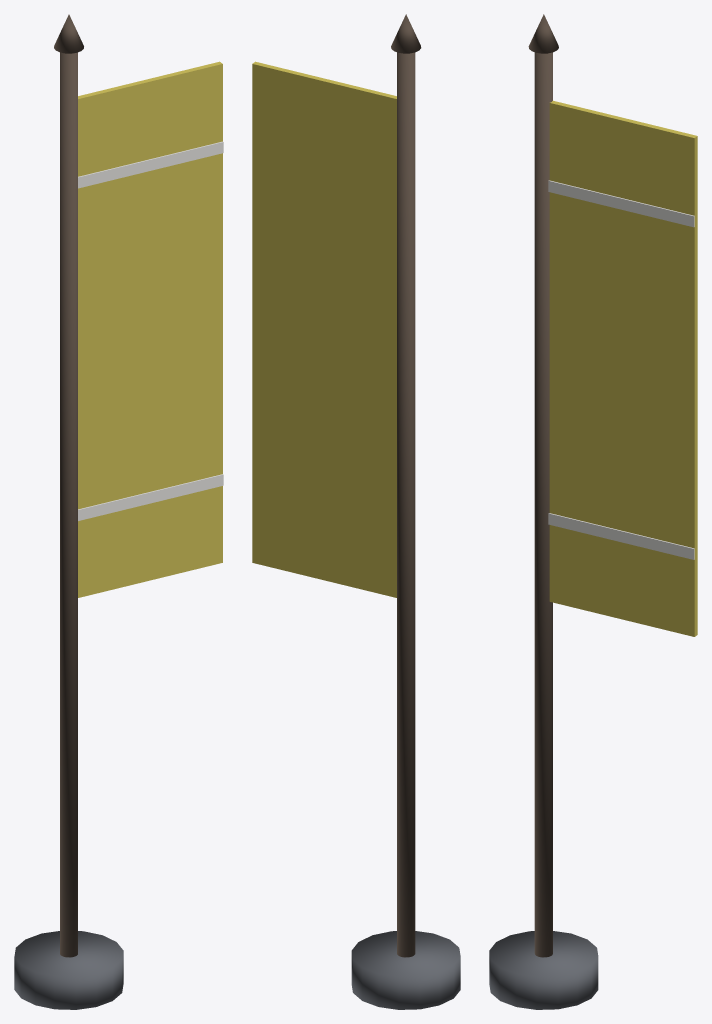
The model's file is prop_tate_nobori_yellow.glb.
3 renders of one model, left to right at view 1: azimuth 30°, elevation 25°; view 2: azimuth 150°, elevation 25°; view 3: azimuth 330°, elevation 25°, orthographic.
Parts seen in each view (by area): view 1: tate_nobori_yellow; view 2: tate_nobori_yellow; view 3: tate_nobori_yellow.
Part boxes in pixels (x1,y1,x2,y2): tate_nobori_yellow: (14,14,223,1009); tate_nobori_yellow: (252,14,460,1009); tate_nobori_yellow: (489,14,697,1009).
Size of the model in its own units: 0.755 by 3.51 by 0.36.
